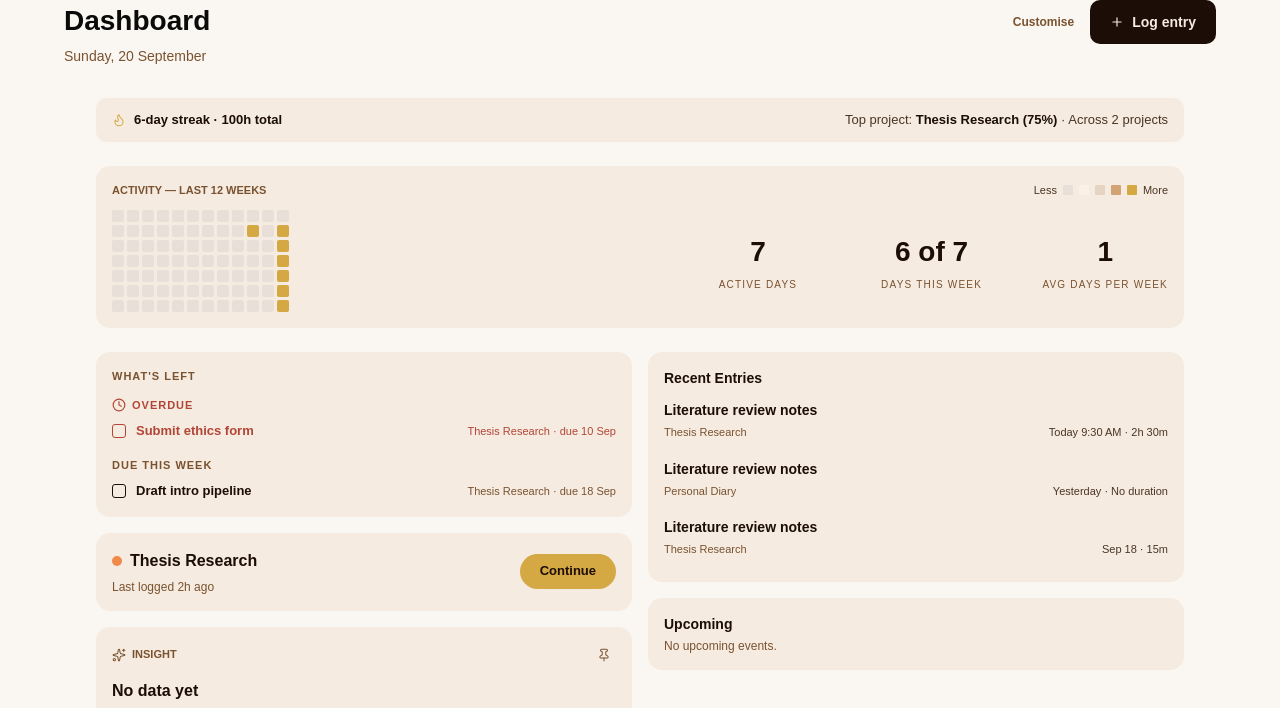
it: DashboardPage › restores an item and shows a message when marking done fails
Click the checkbox named "Mark Submit ethics form done" at (119, 431), box x1=112 y1=424 x2=126 y2=438
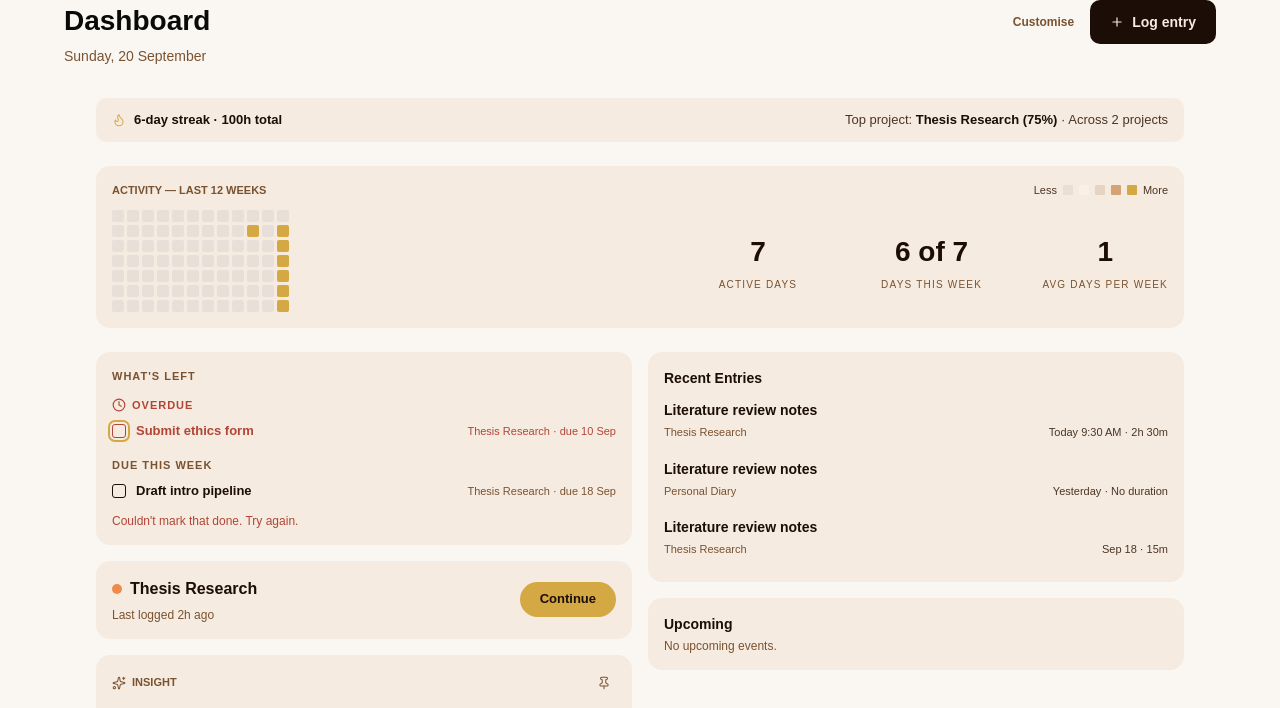
Expected: the text "Submit ethics form" is shown, x1=136 y1=423 x2=254 y2=438
Expected: the message shows "Couldn't mark that done", x1=112 y1=514 x2=298 y2=528
